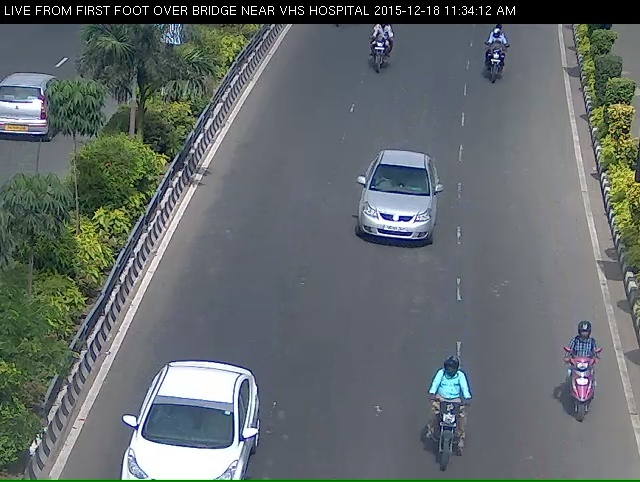Car: (344, 140, 456, 286), (120, 389, 257, 482)
Person: (420, 385, 481, 479), (561, 343, 609, 452), (477, 28, 525, 102), (364, 28, 396, 92)
